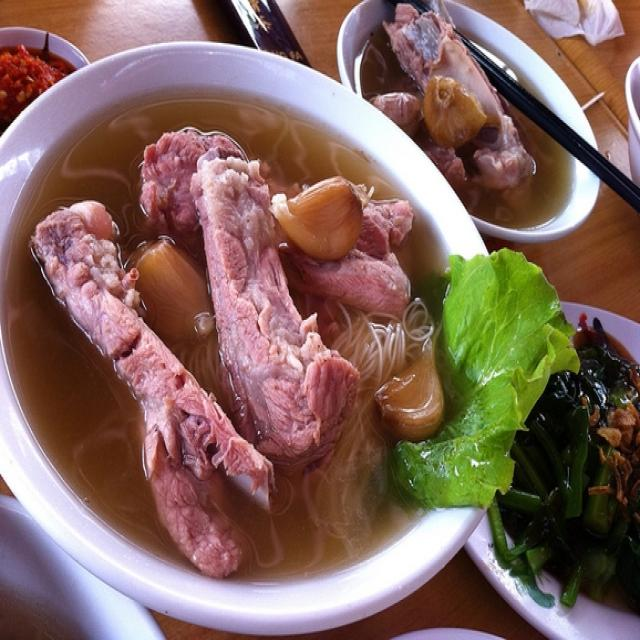汤锅炖物: (8, 58, 505, 588)
